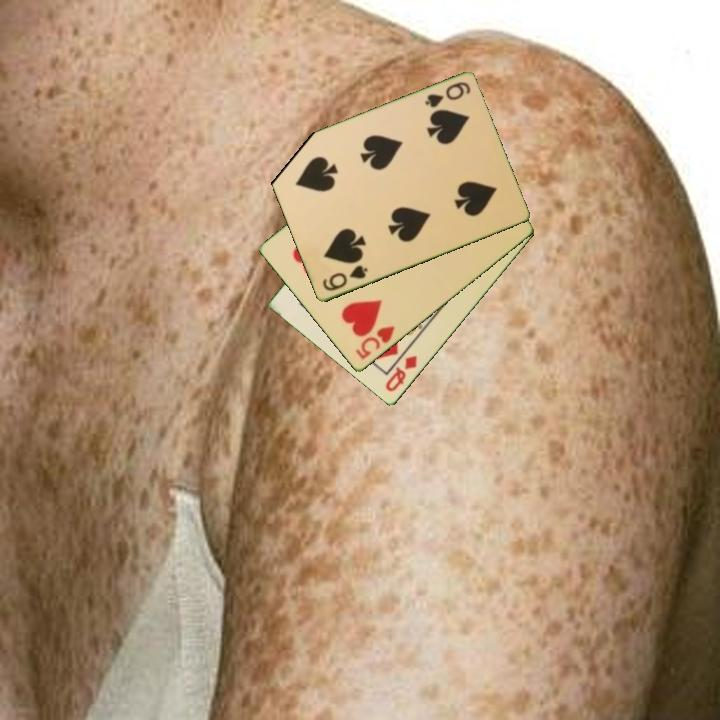5h: (352, 323, 398, 363)
6s: (319, 262, 371, 294), (421, 79, 473, 111)
Qd: (381, 352, 420, 395)
